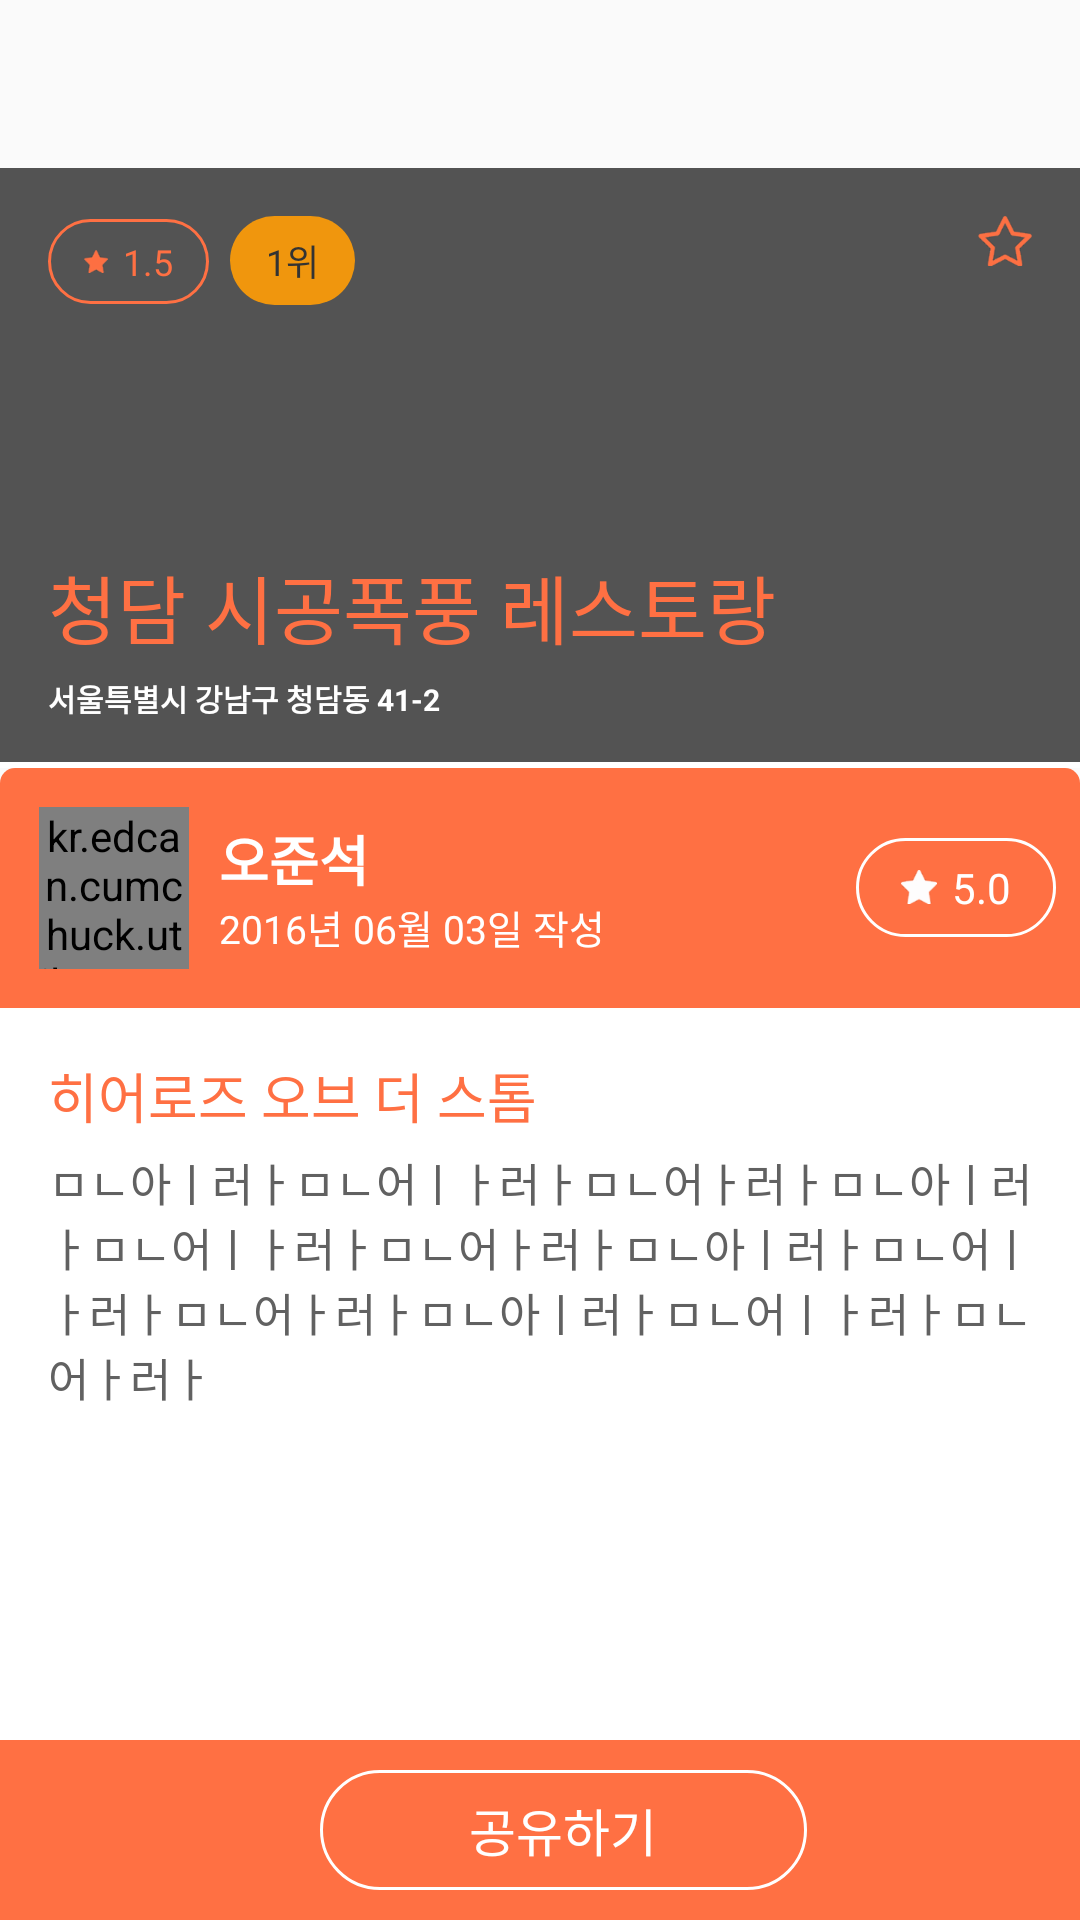

Icon bounding boxes for this 1080 x 1920 phone screenshot, format (x1, y1, x2, y2):
fav favstar off: (978, 216, 1032, 266)
